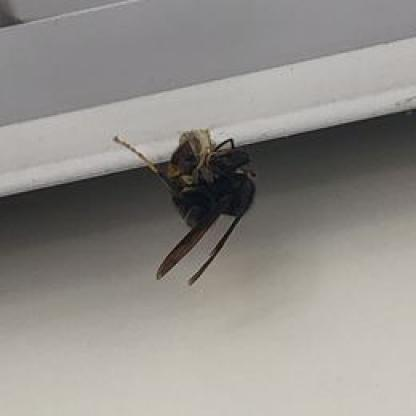Asian Hornet: (102, 125, 270, 284)
